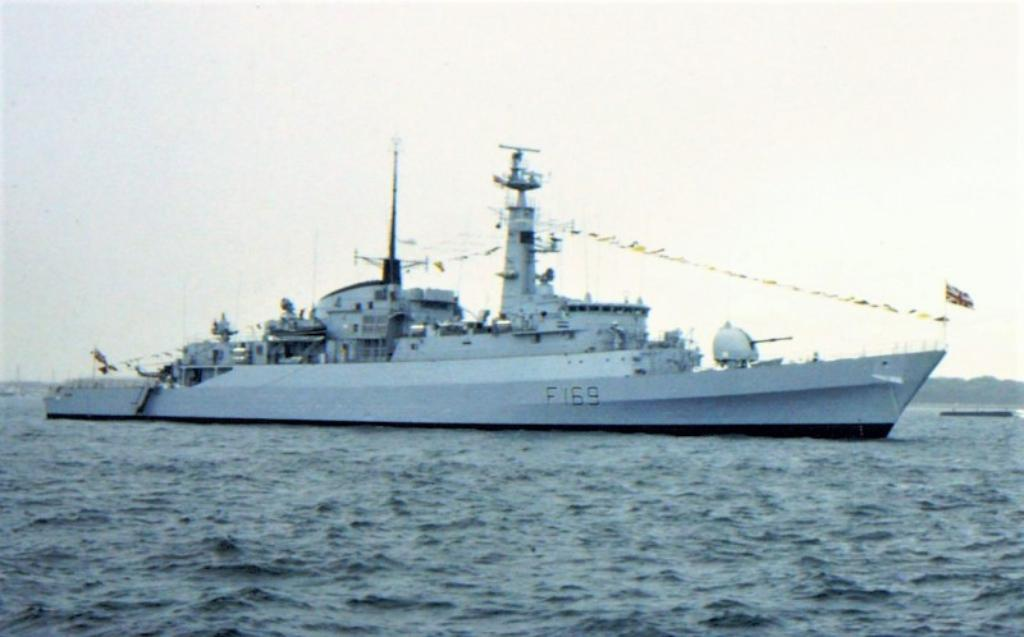Warship: (42, 128, 948, 446)
